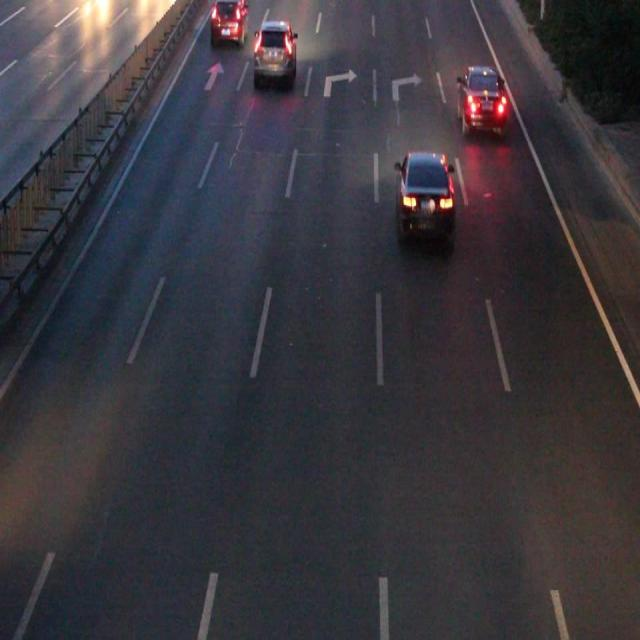car: (397, 152, 452, 240), (458, 66, 505, 133), (253, 22, 296, 82), (210, 1, 248, 42)
